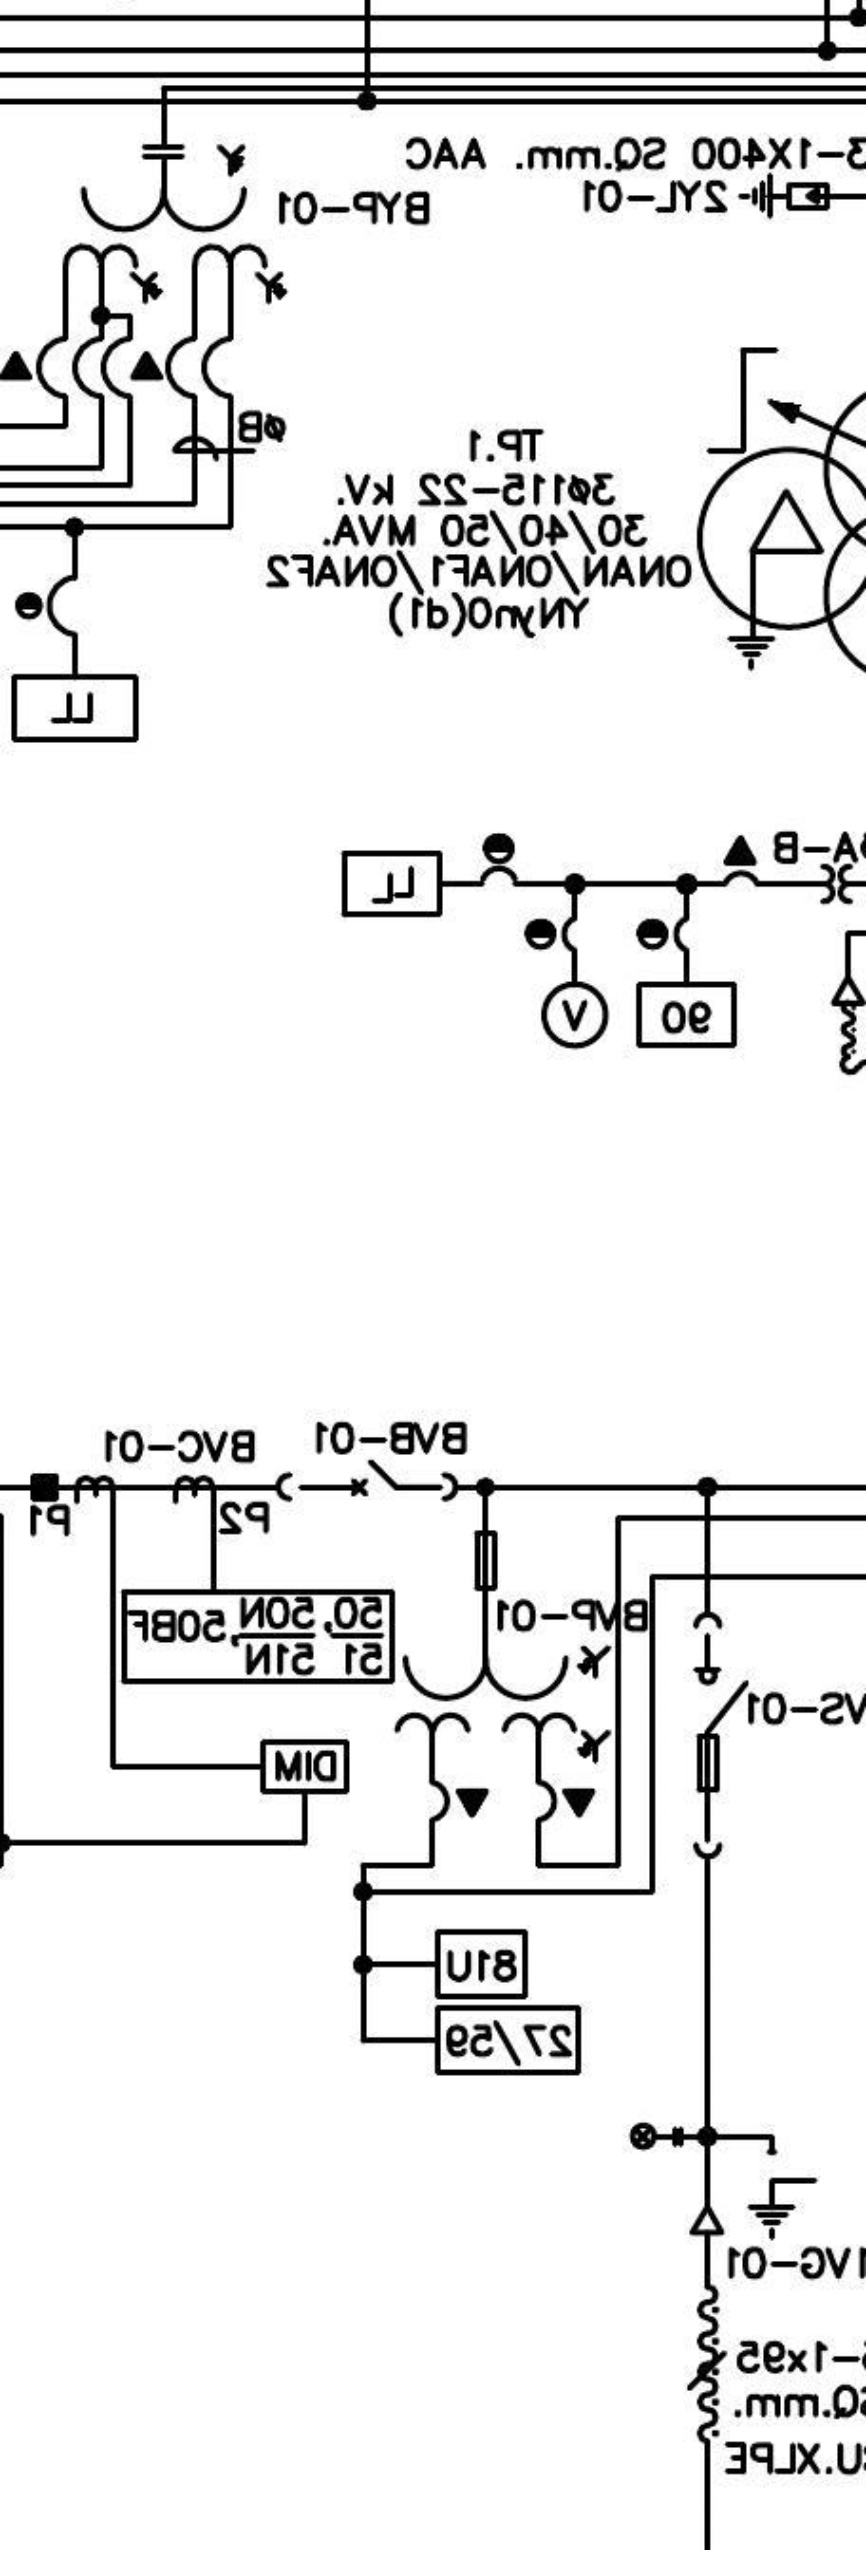115_cvt_3p: (61, 143, 289, 306)
115_la: (738, 172, 831, 221)
22_breaker: (275, 1459, 459, 1503)
22_ds: (692, 1611, 749, 1859)
22_gs: (746, 2149, 819, 2241)
22_ll: (628, 2122, 684, 2152)
22_vt_3p: (392, 1529, 613, 1824)
DIM: (259, 1738, 350, 1794)
LL: (11, 673, 139, 743), (341, 851, 443, 918)
terminator_single: (688, 2205, 725, 2237)
v_m: (539, 980, 610, 1051)
